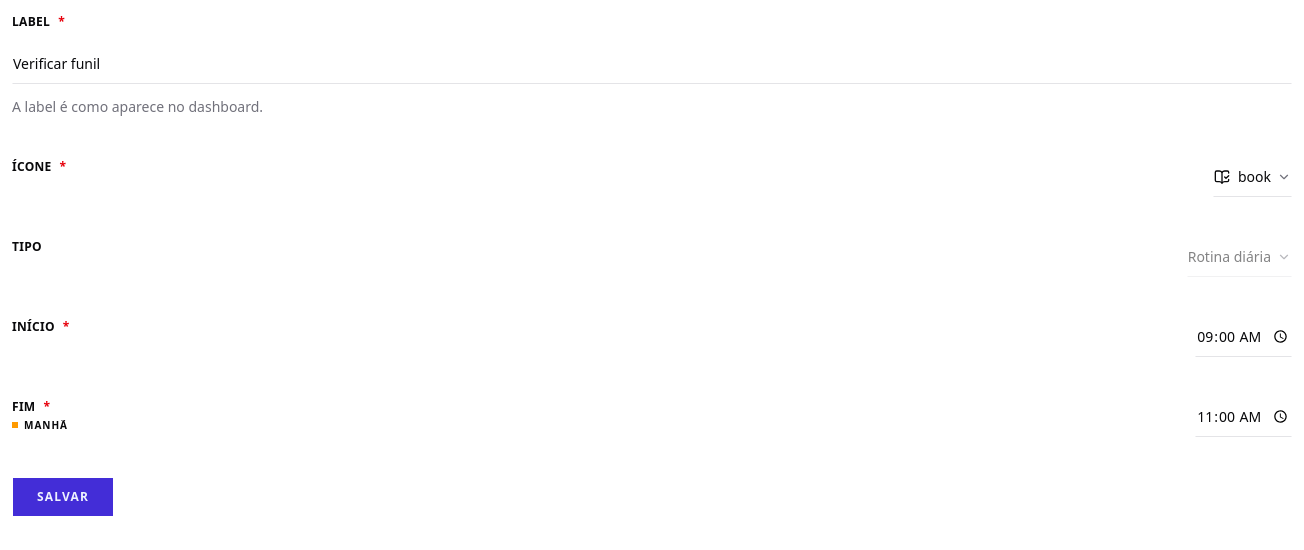
Test: ChecklistItemEditForm › item DAILY (com horário) › exibe erro quando fim não é depois do início
This screenshot has width=1304, height=550.
Replace the text in the time field labelled "Fim *" with "08:00" at {"x": 1244, "y": 416}, box x1=1195 y1=396 x2=1292 y2=436
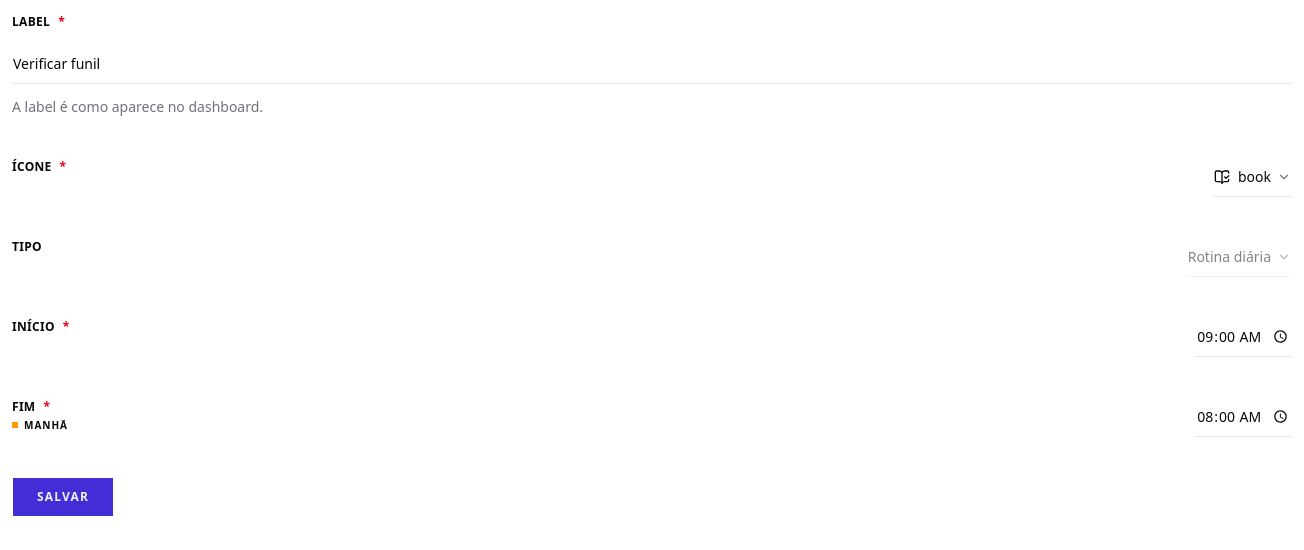
Click the button "Salvar" at {"x": 63, "y": 496}, box x1=12 y1=476 x2=114 y2=516
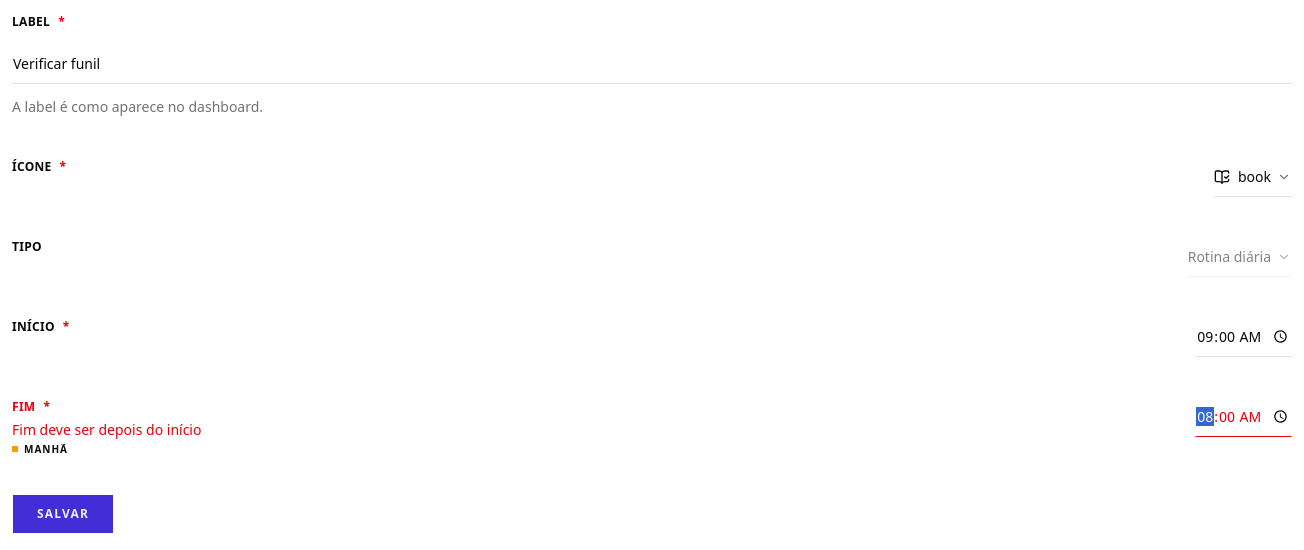
Expected: the text "Fim deve ser depois do início" is shown, x1=12 y1=420 x2=202 y2=439
